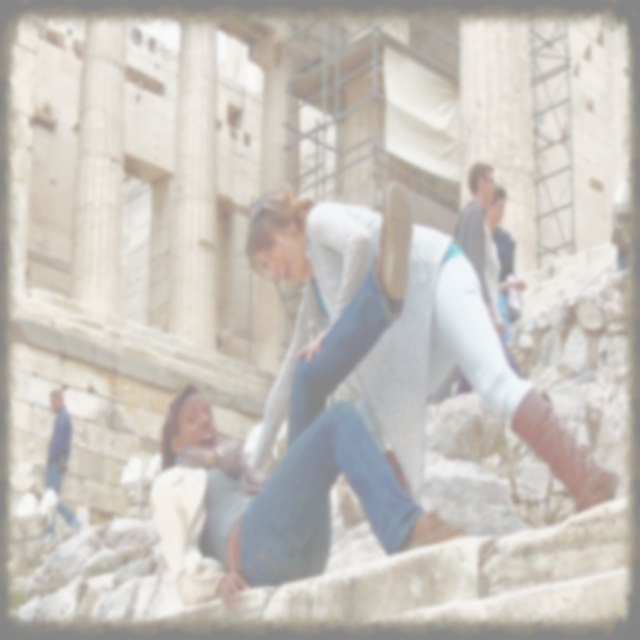pessoa: (148, 180, 468, 614), (243, 184, 618, 516), (428, 161, 512, 407), (452, 182, 530, 400), (41, 386, 84, 544), (608, 194, 630, 282)
